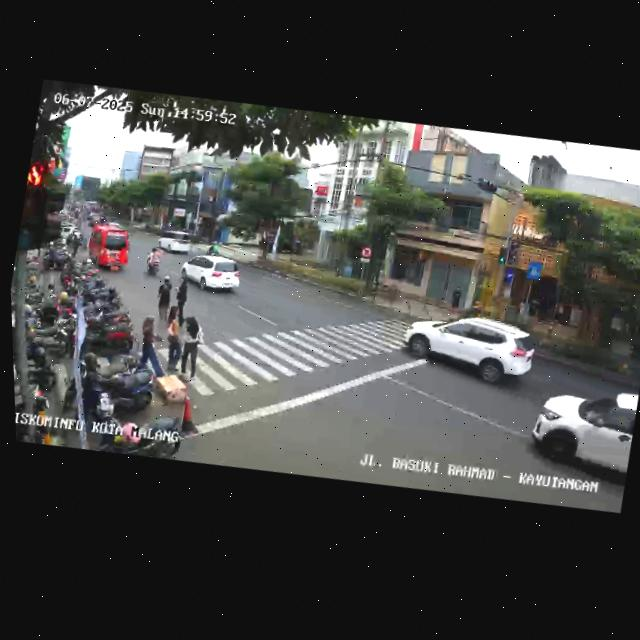car: (396, 296, 545, 402), (519, 372, 640, 497), (179, 248, 246, 302), (83, 221, 134, 277), (154, 225, 202, 262)
motorcycle: (142, 242, 166, 278)
person: (132, 312, 175, 380), (156, 303, 192, 376), (175, 313, 211, 384), (152, 272, 176, 317), (169, 276, 192, 321)
